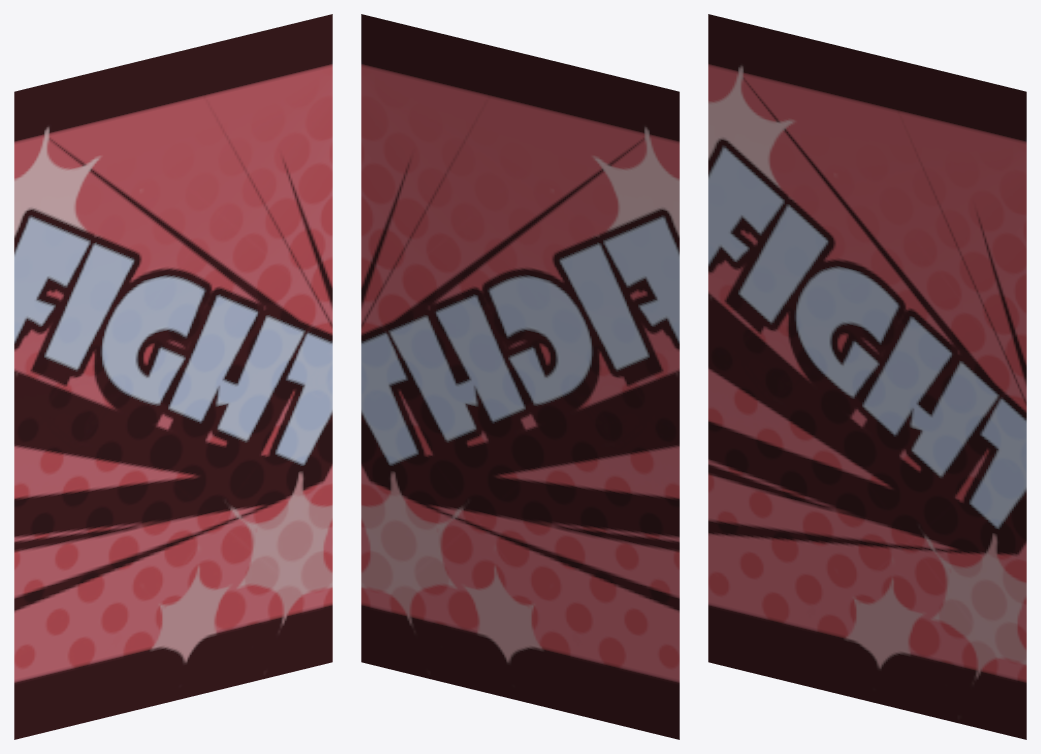
The model's file is Flag01_02.fbx.
The picture shows the model from 3 angles, left to right: view 1: azimuth 30°, elevation 25°; view 2: azimuth 150°, elevation 25°; view 3: azimuth 330°, elevation 25°; orthographic projection.
Visible parts, largest first — view 1: Plane019; view 2: Plane019; view 3: Plane019.
Part boxes in pixels (box(x1,y1,x2,y2)): Plane019: box(14, 14, 332, 739); Plane019: box(361, 14, 679, 739); Plane019: box(708, 14, 1026, 739).
Size of the model in its own units: 114 by 222 by 0.00014.
